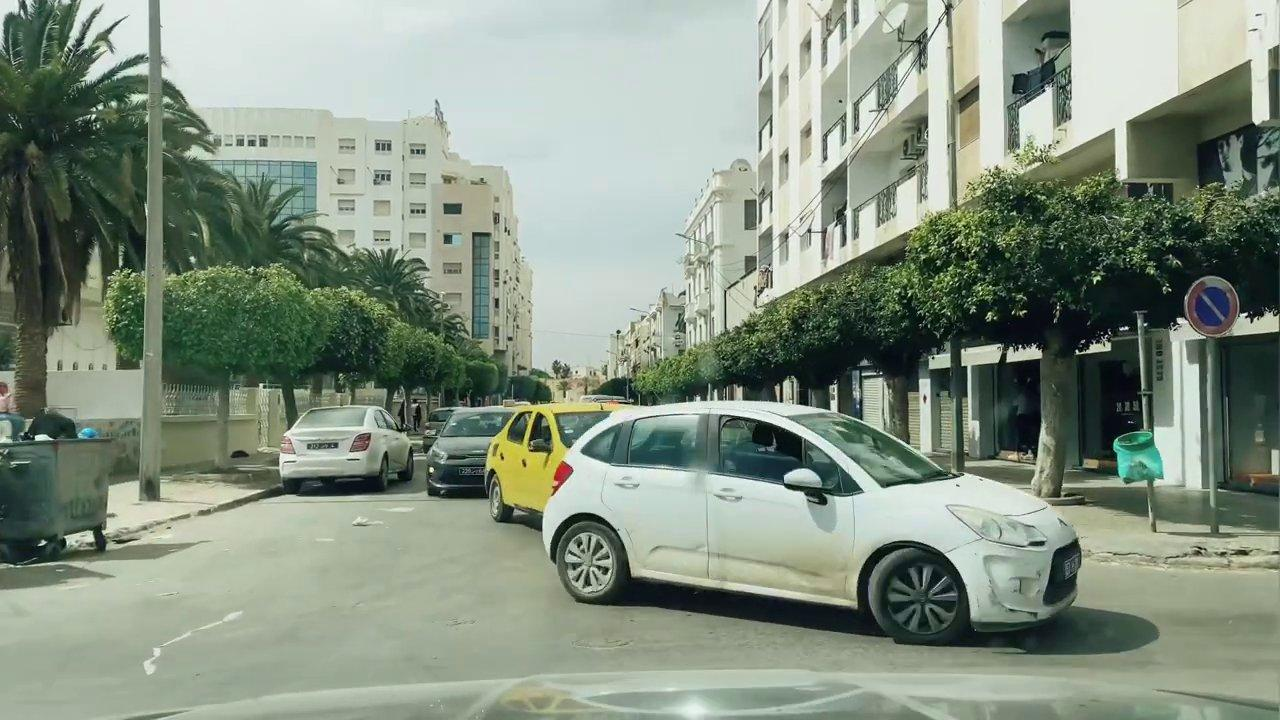no parking: (1182, 269, 1242, 340)
